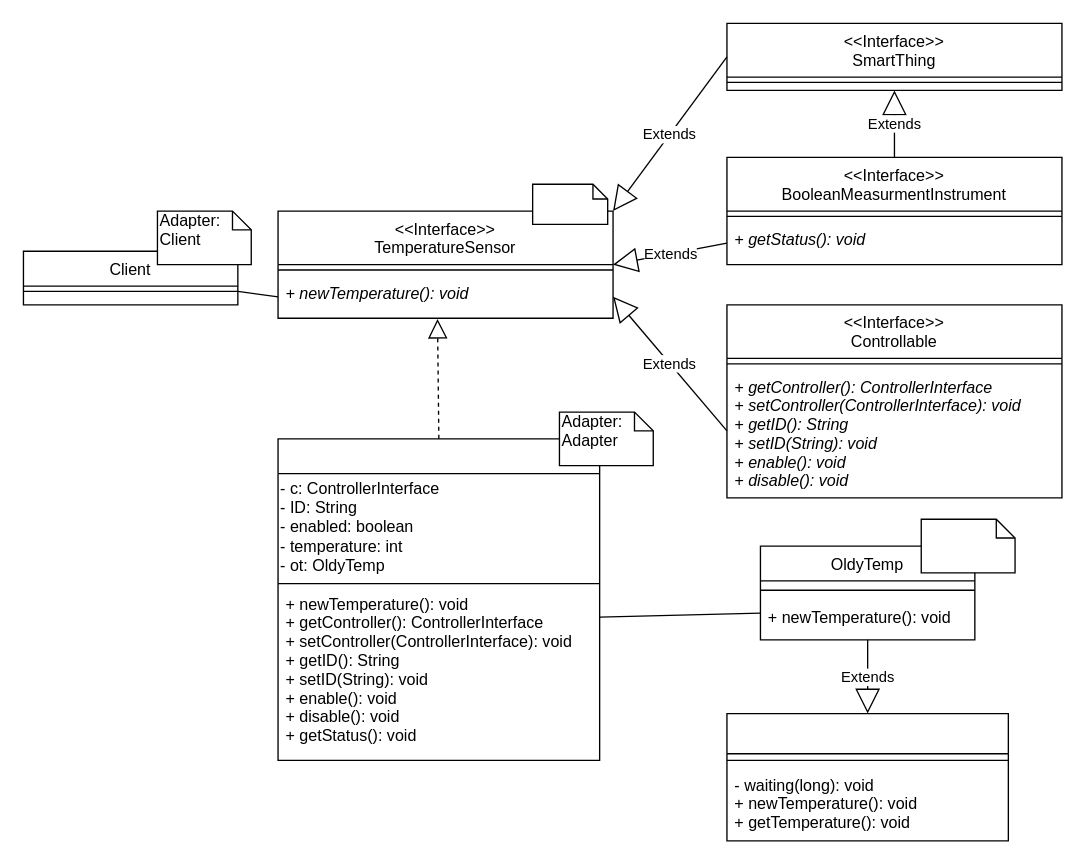
The diagram is 1085 pixels wide and 864 high, and some of its shapes have lost their labels. Each missing label, with the box of its shape:
Adapter: Adaptee: (920, 518, 1015, 573)
Adapter: Target: (531, 183, 608, 224)
OldyTempSensorAdapter: (277, 438, 600, 760)
OldyTempSensorOld3: (726, 712, 1008, 841)
